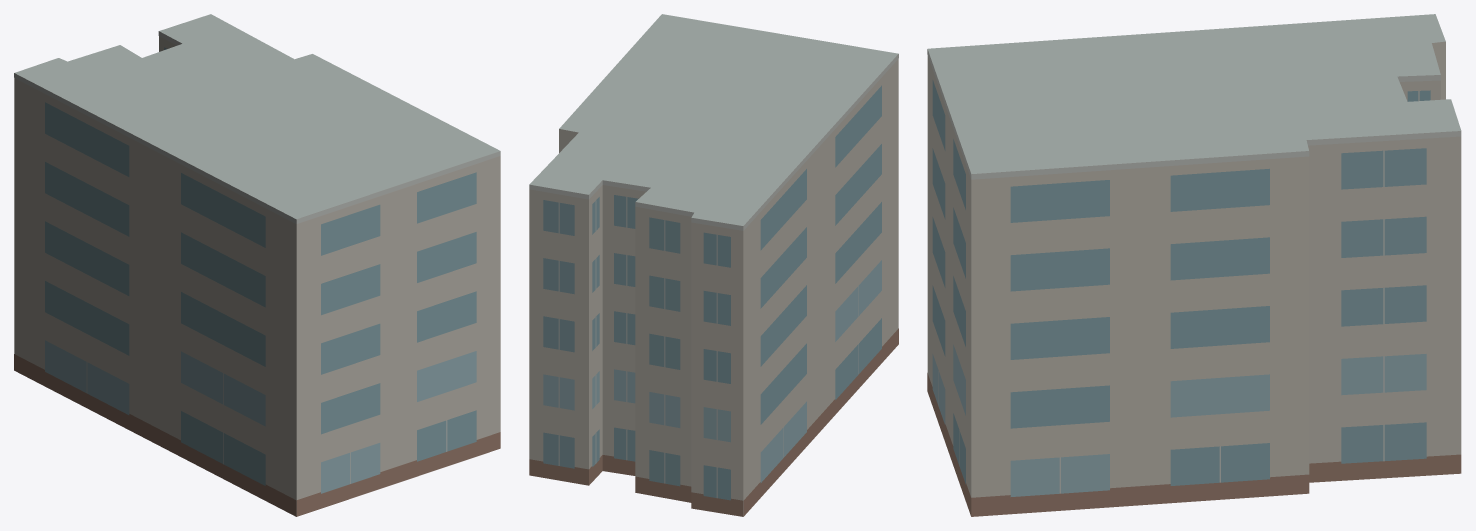
Rendered from survey-upis-32988931.glb.
The picture shows the model from 3 angles, left to right: view 1: azimuth 30°, elevation 25°; view 2: azimuth 150°, elevation 25°; view 3: azimuth 270°, elevation 25°; orthographic projection. The views are drawn at different scales.
Parts seen in each view (by area): view 1: survey-upis-32988931.tmp; view 2: survey-upis-32988931.tmp; view 3: survey-upis-32988931.tmp.
Part boxes in pixels (x1,y1,x2,y2): survey-upis-32988931.tmp: (14,14,500,516); survey-upis-32988931.tmp: (529,14,898,516); survey-upis-32988931.tmp: (927,14,1461,516).
Size of the model in its own units: 14.99 by 14.95 by 21.12.
